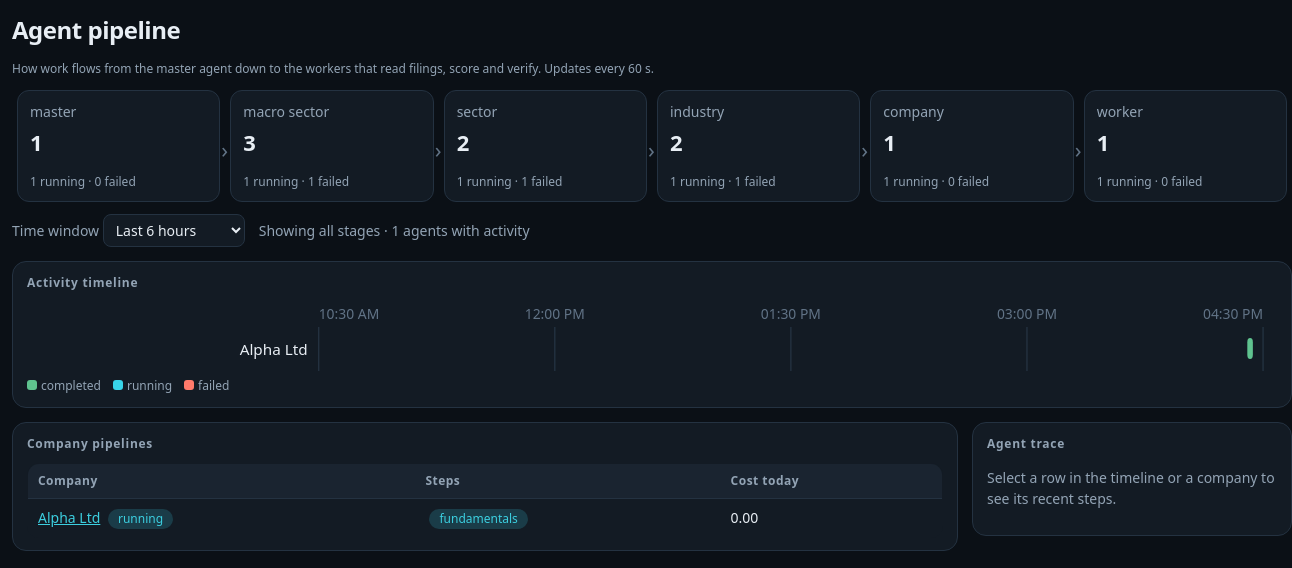
Test case: pipeline dashboard › shows stages, a run timeline, per-company worker steps and a trace for the selected agent
The width and height of the screenshot is (1292, 568).
Expected: the list named "pipeline stages" is shown, [12,90,1291,202]
Expected: the picture named "run timeline" is shown, [27,302,1277,371]
What coordinates should you click on to do the following:
click the link "Alpha Ltd"
I would click on:
 (69, 518)
Its box is [38,508,100,527].
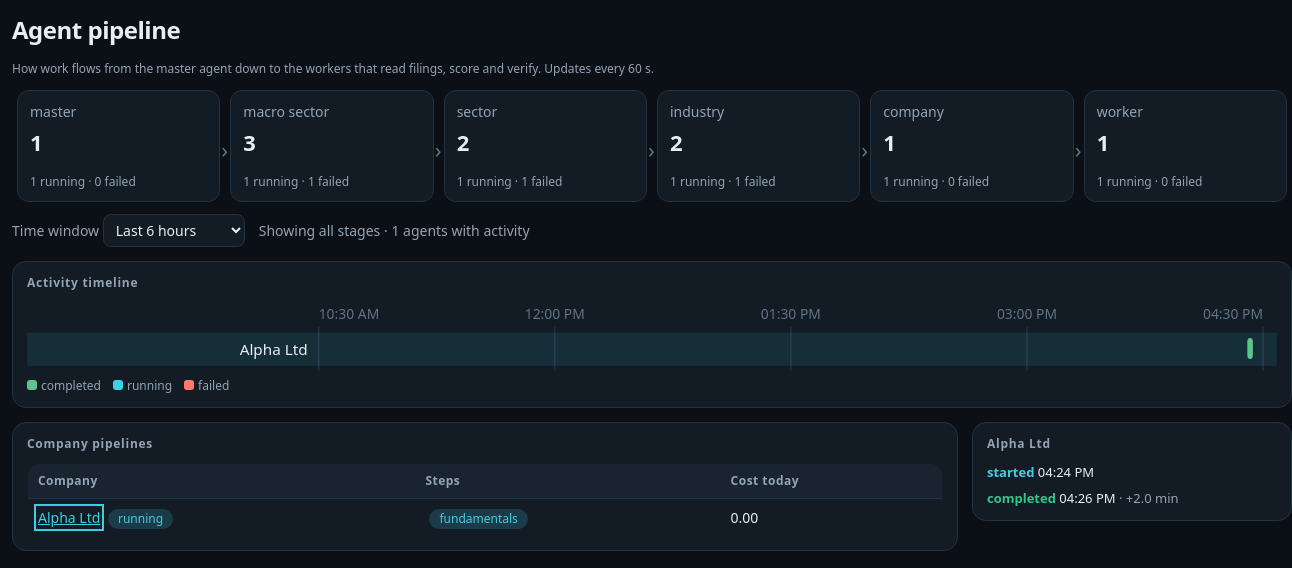
Expected: the element named "agent trace" shows "completed", [987,489,1056,507]
